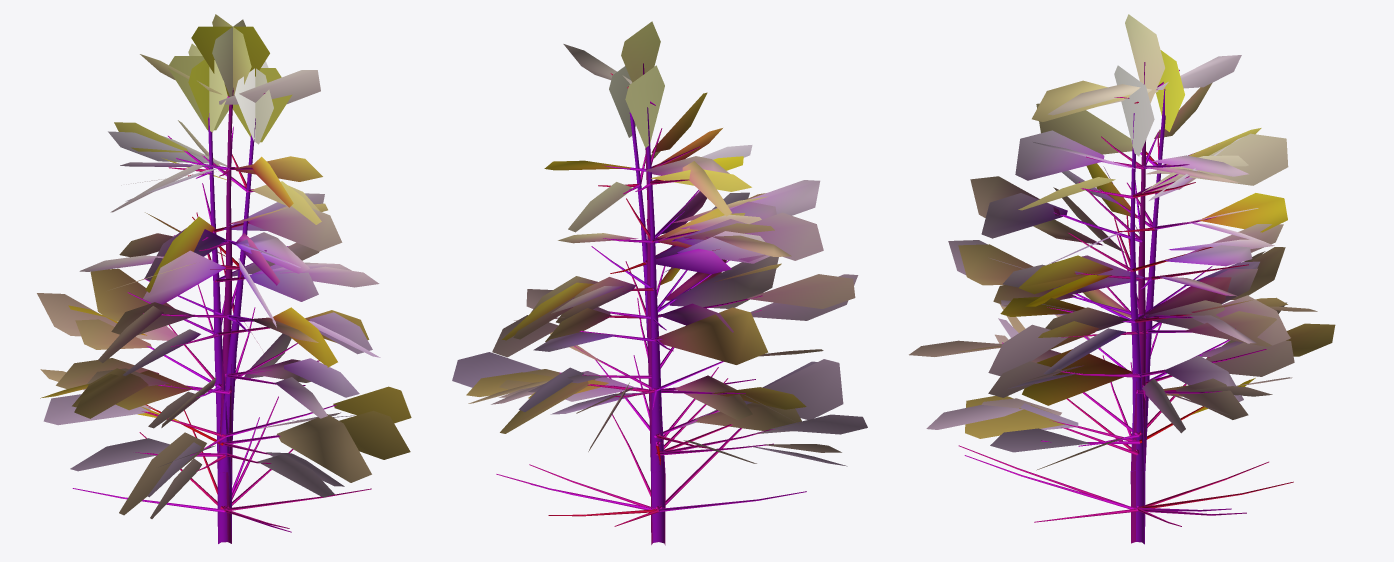
Rendered from sapling_pine.glb.
3 renders of one model, left to right at view 1: azimuth 30°, elevation 25°; view 2: azimuth 150°, elevation 25°; view 3: azimuth 270°, elevation 25°, orthographic. The views are drawn at different scales.
Parts seen in each view (by area): view 1: sapling_pine_v1_lod0, sapling_pine_v0_lod0, sapling_pine_v2_lod0; view 2: sapling_pine_v0_lod0, sapling_pine_v1_lod0, sapling_pine_v2_lod0; view 3: sapling_pine_v0_lod0, sapling_pine_v1_lod0, sapling_pine_v2_lod0.
Part boxes in pixels (box(x1,y1,x2,y2)): sapling_pine_v1_lod0: box(37, 43, 410, 543); sapling_pine_v0_lod0: box(43, 14, 411, 543); sapling_pine_v2_lod0: box(40, 61, 380, 542); sapling_pine_v0_lod0: box(496, 21, 855, 544); sapling_pine_v1_lod0: box(492, 65, 858, 542); sapling_pine_v2_lod0: box(452, 66, 867, 533); sapling_pine_v0_lod0: box(909, 14, 1294, 543); sapling_pine_v1_lod0: box(926, 50, 1335, 544); sapling_pine_v2_lod0: box(948, 65, 1317, 542).
Size of what is drawn, in the model's own units: 3.01 by 4.41 by 3.59.
